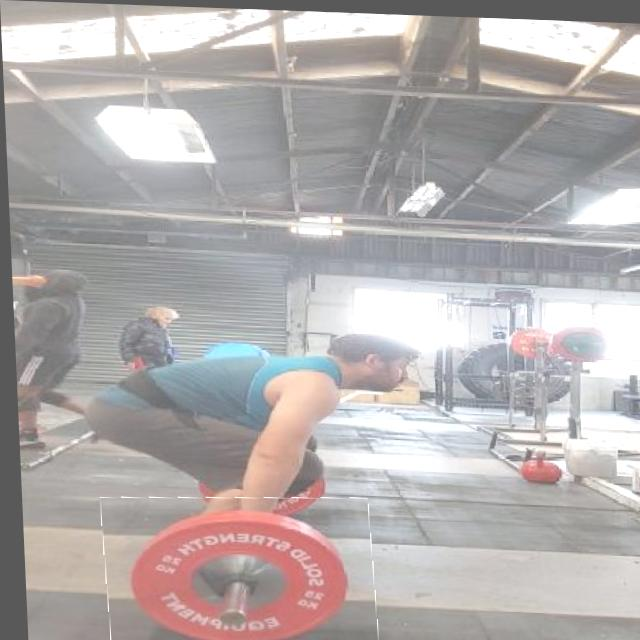barbell: (97, 490, 373, 640)
